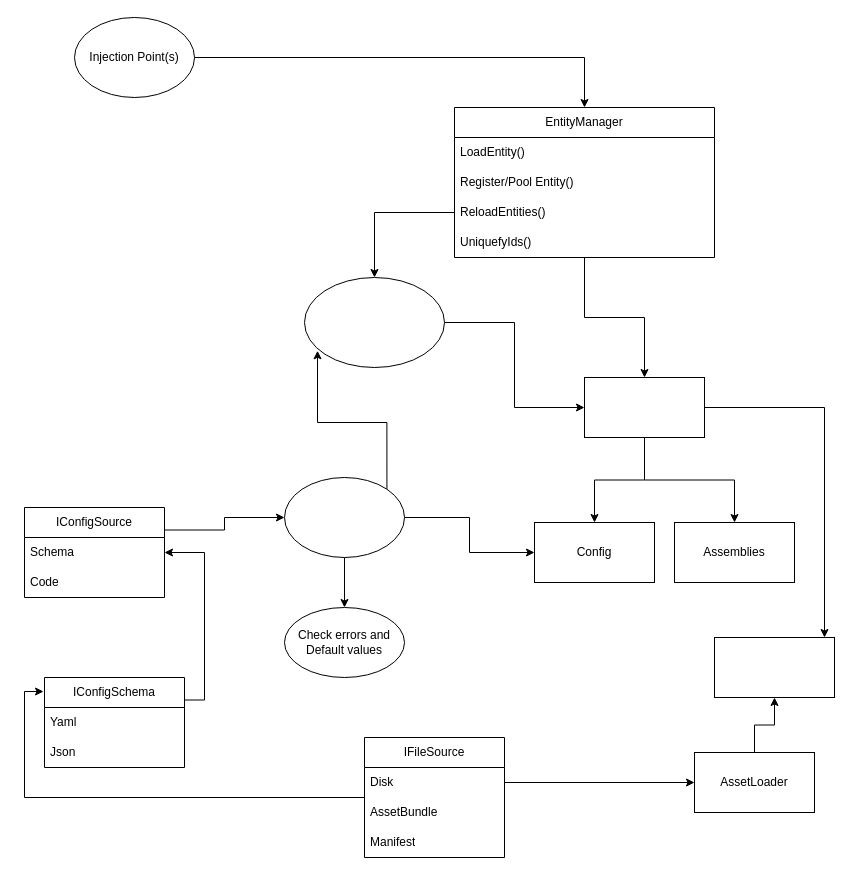
Image size: 852x875. Some labels were removed from this diagram. Here are the shapes that lost their labels. From the top down, the centre of each, then its label:
point 374,322: modding API
point 644,407: EntityDefinition
point 344,517: Config constructor wrapper
point 774,667: Assets
